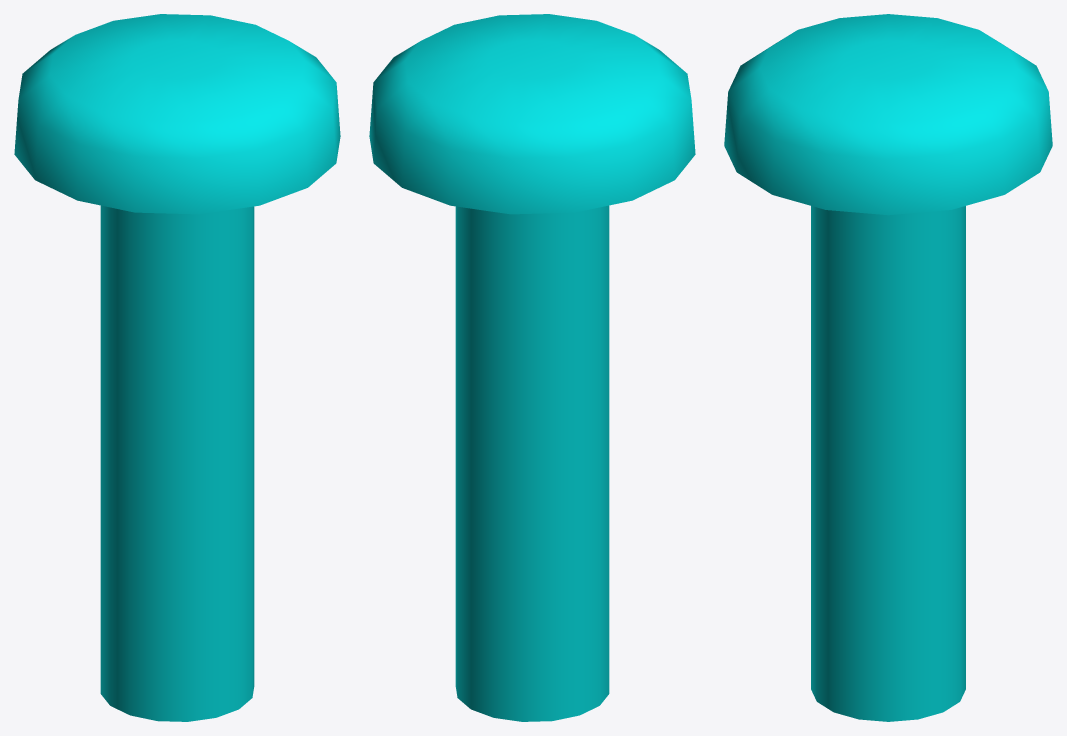
File: komono4.fbx
3 views of the same model, side by side, from view 1: azimuth 30°, elevation 25°; view 2: azimuth 150°, elevation 25°; view 3: azimuth 270°, elevation 25° (orthographic).
Visible parts, largest first — view 1: Cylinder.005; view 2: Cylinder.005; view 3: Cylinder.005.
Part boxes in pixels (left/top/right/bottom): Cylinder.005: left=14, top=14, right=340, bottom=721; Cylinder.005: left=369, top=14, right=695, bottom=721; Cylinder.005: left=724, top=14, right=1052, bottom=721.
Bounding box in the file's own units: 9.63 × 20.34 × 9.63.
